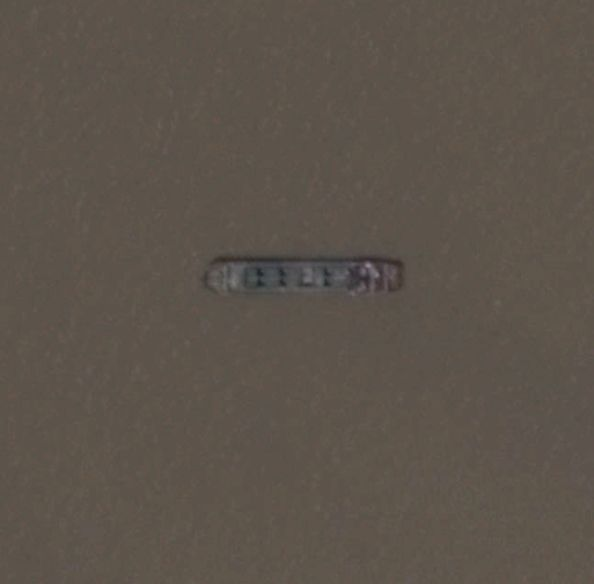boat: (196, 256, 409, 302)
